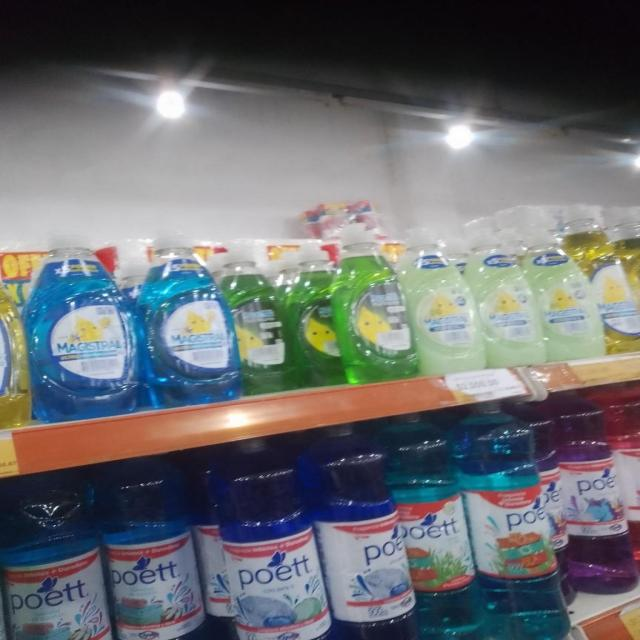magistral_con_amarillo: (598, 203, 640, 354), (0, 270, 25, 431)
magistral_con_azul: (29, 245, 138, 421), (144, 244, 234, 406)
magistral_con_crema: (412, 230, 477, 375), (478, 228, 538, 368), (539, 221, 598, 361)
magistral_con_verde: (337, 220, 419, 379)
